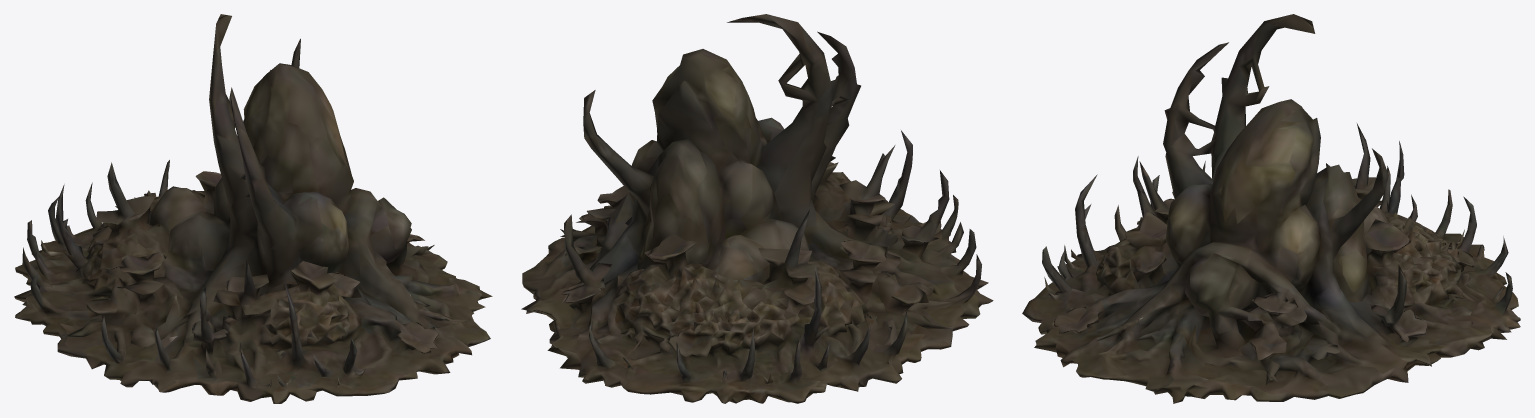
The model's file is corruption-growth.glb.
The picture shows the model from 3 angles, left to right: view 1: azimuth 30°, elevation 25°; view 2: azimuth 150°, elevation 25°; view 3: azimuth 270°, elevation 25°; orthographic projection. The views are drawn at different scales.
Parts seen in each view (by area): view 1: tripo_node_e27cfe35-25c1-47c8-9318-1ee3c26f22de; view 2: tripo_node_e27cfe35-25c1-47c8-9318-1ee3c26f22de; view 3: tripo_node_e27cfe35-25c1-47c8-9318-1ee3c26f22de.
Boxes of the visible parts, x1,y1,x2,y2 form: tripo_node_e27cfe35-25c1-47c8-9318-1ee3c26f22de: (14,14,492,403); tripo_node_e27cfe35-25c1-47c8-9318-1ee3c26f22de: (521,14,993,403); tripo_node_e27cfe35-25c1-47c8-9318-1ee3c26f22de: (1022,14,1520,403).
Size of the model in its own units: 0.8939 by 0.6296 by 1.
1 material, 1 textured.
